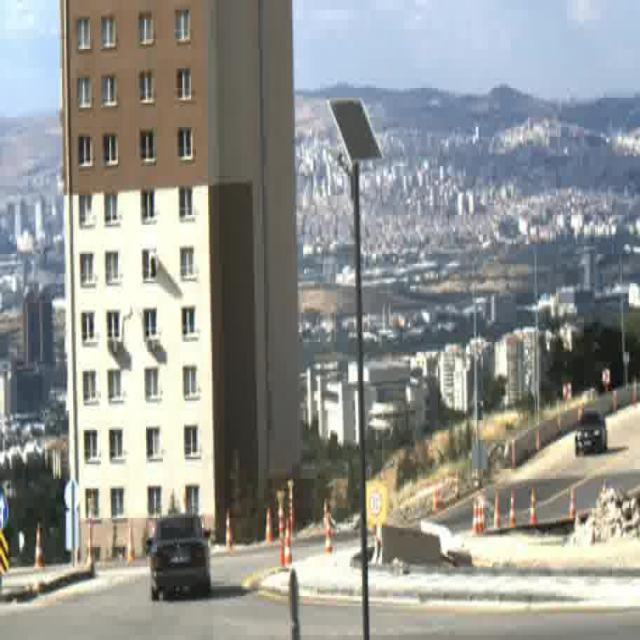Car: (152, 514, 210, 602), (573, 411, 608, 456)
